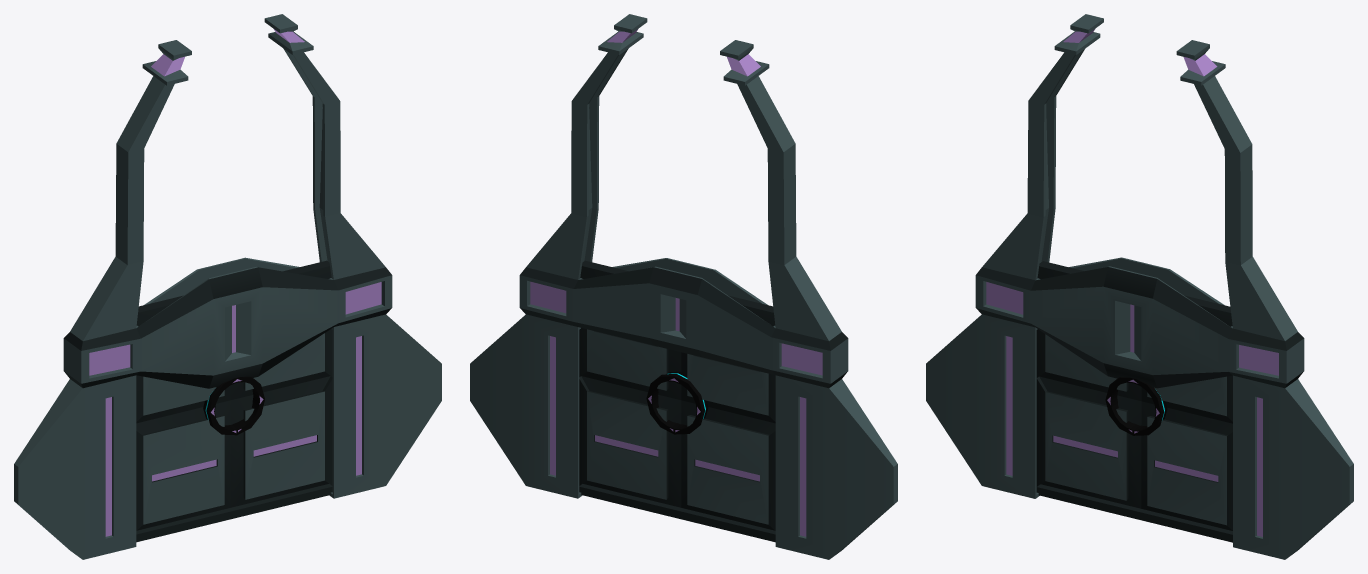
The model's file is DoorVaultTrigger.fbx.
3 views of the same model, side by side, from view 1: azimuth 30°, elevation 25°; view 2: azimuth 150°, elevation 25°; view 3: azimuth 330°, elevation 25° (orthographic).
Parts seen in each view (by area): view 1: DoorVaultTrigger, Door; view 2: DoorVaultTrigger, Door; view 3: DoorVaultTrigger, Door.
Part boxes in pixels (<box>): DoorVaultTrigger: <box>14,14,441,559</box>; Door: <box>136,260,332,542</box>; DoorVaultTrigger: <box>470,14,897,559</box>; Door: <box>579,260,775,542</box>; DoorVaultTrigger: <box>926,14,1353,559</box>; Door: <box>1036,261,1232,542</box>.
Bounding box in the file's own units: 18.87 × 20.57 × 1.87.
